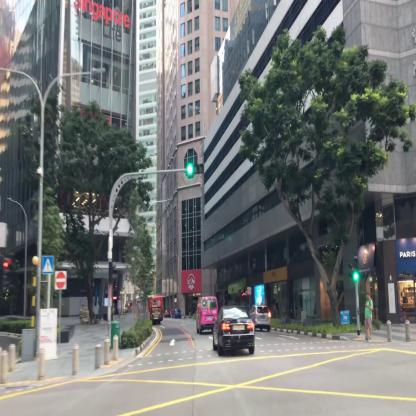green_traffic_light: (186, 164, 204, 173)
